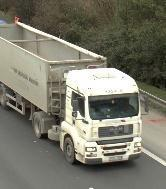Truck: (0, 24, 141, 166)
